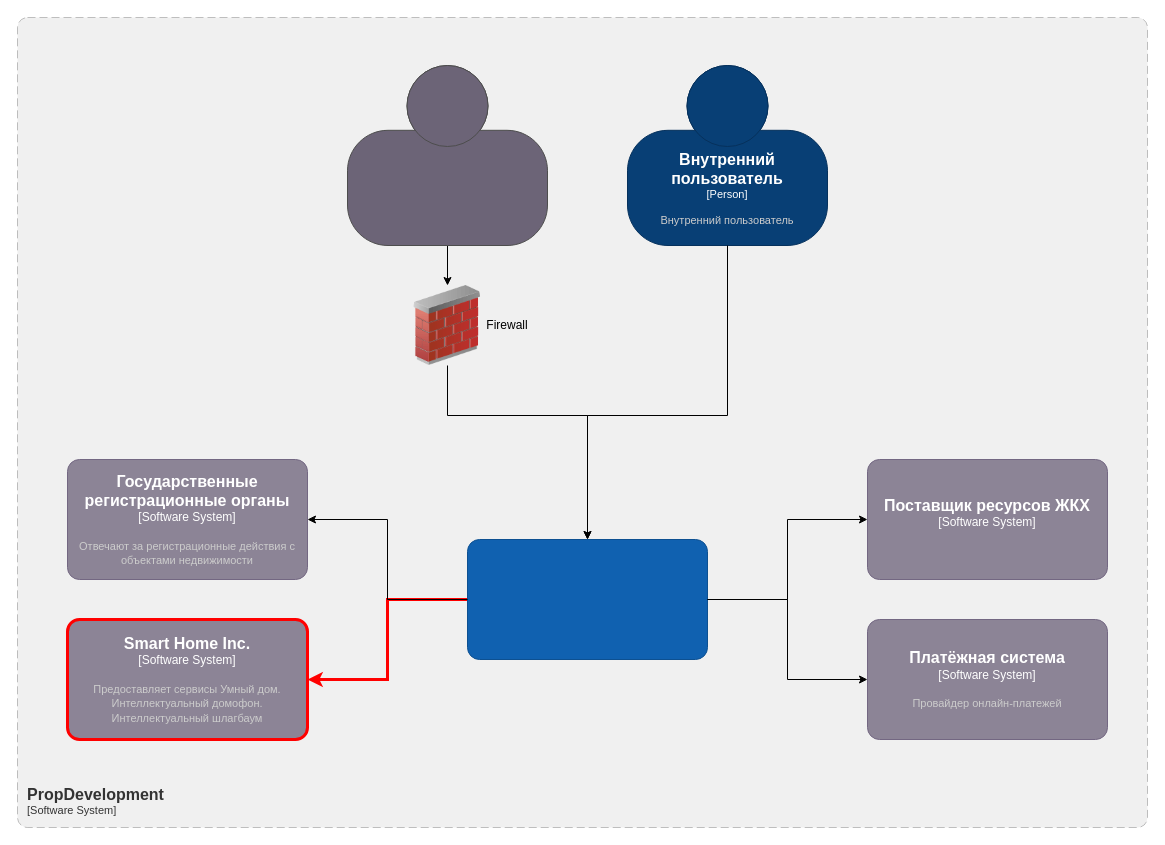
This 1165x845 diagram has some shape labels left out. The shapes that lost their labels are listed below. From the top down, each one's centre as x and y in pixels, then its label:
At point (447, 155): "Внешний пользователь [Person] Внешний пользователь".
At point (587, 599): "PropDevelopment System [PropDevelopment] PropDevelopment System".
